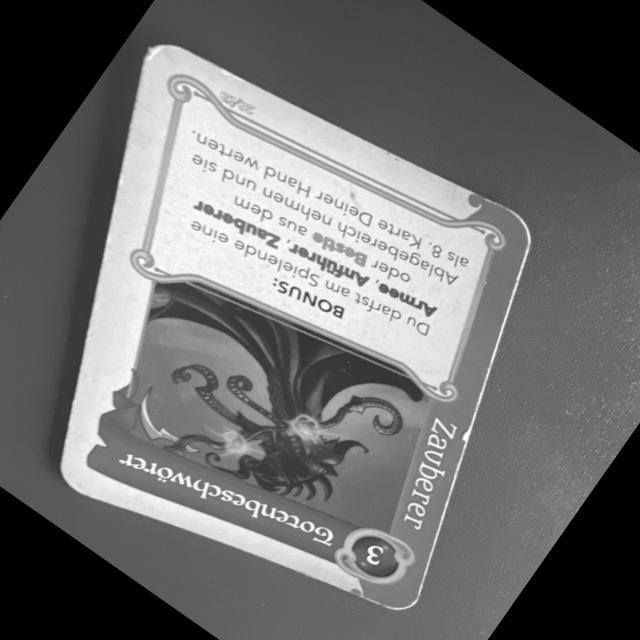Shapeshifter: (62, 32, 538, 616)
